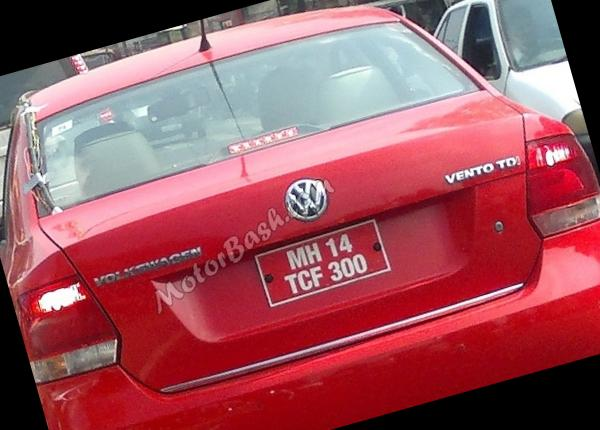plate: (250, 208, 398, 315)
